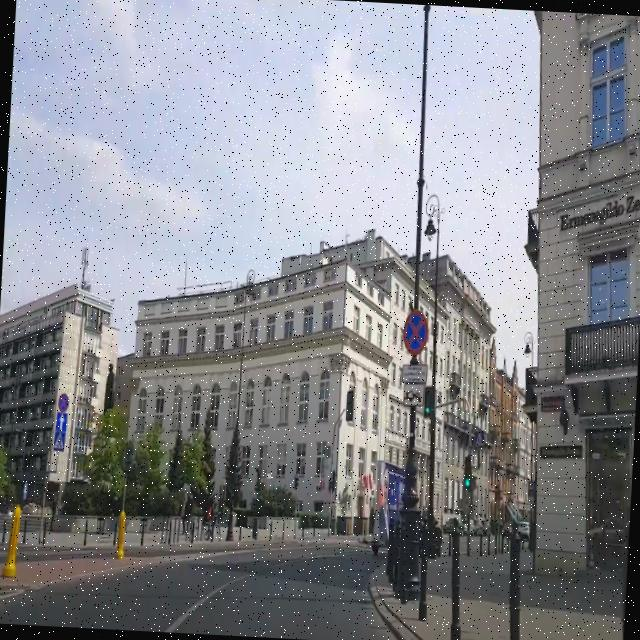Przejscie dla pieszych: (52, 433, 66, 453)
Zakaz zatrzymywania sie: (402, 309, 429, 355), (58, 392, 70, 413)
